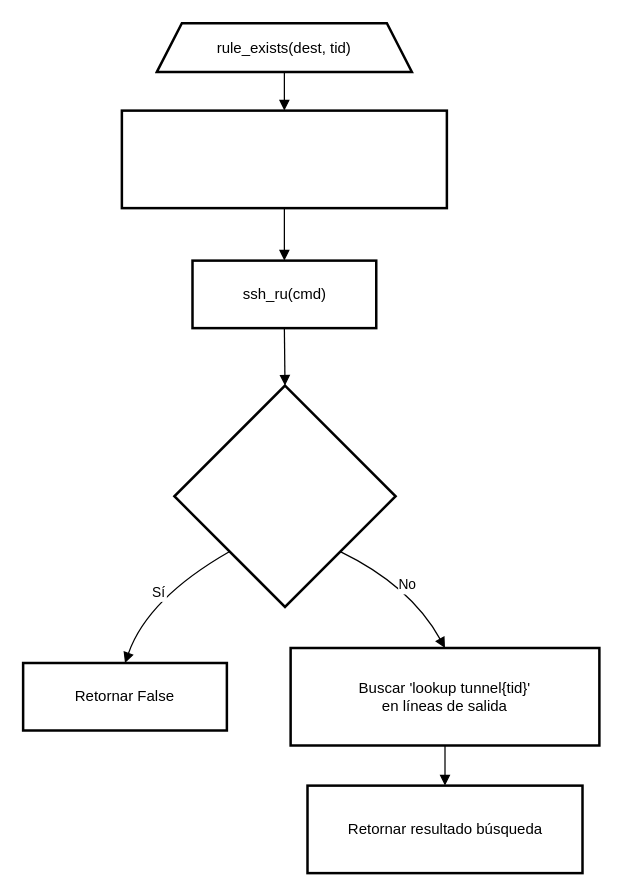
The diagram is 621 pixels wide and 895 high, and some of its shapes have lost their labels. The centre of each missing label's shape, as x and y in pixels:
"cmd = 'ip -6 rule show to {dest}/64'" belongs at pixel 284 159.
"¿returncode != 0?" belongs at pixel 284 496.
